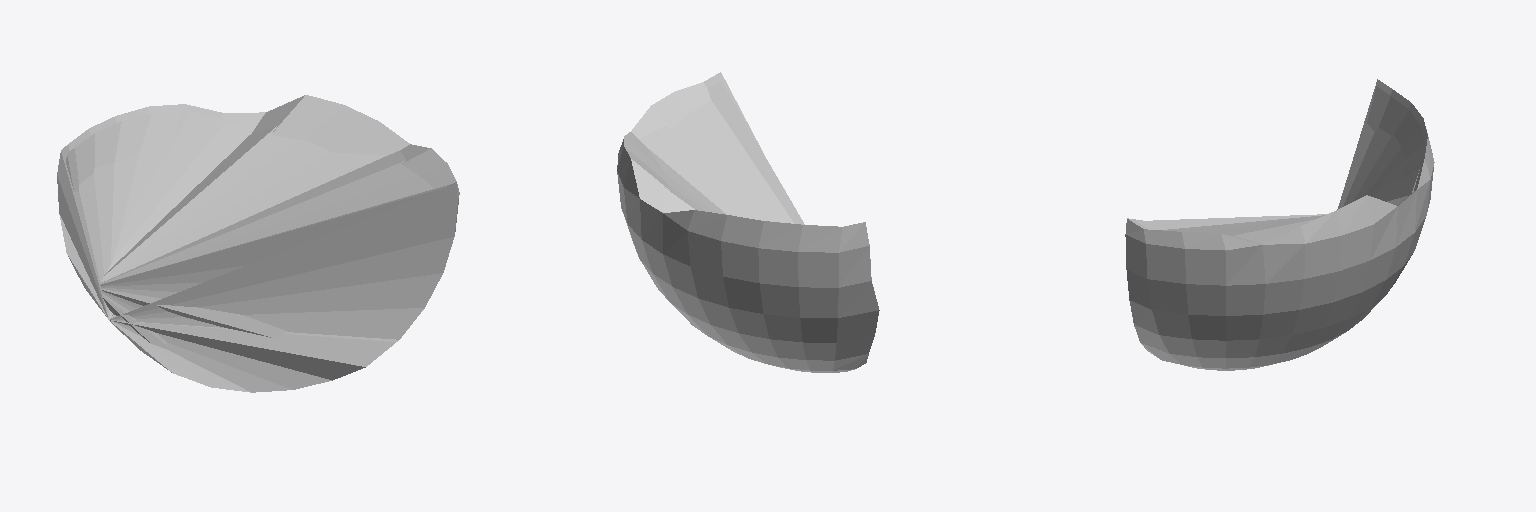
Rendered from ball_piece2.obj.
The picture shows the model from 3 angles: view 1: azimuth 30°, elevation 25°; view 2: azimuth 150°, elevation 25°; view 3: azimuth 270°, elevation 25°; orthographic projection.
Visible parts, largest first — view 1: piece_1_Sphere.003; view 2: piece_1_Sphere.003; view 3: piece_1_Sphere.003.
Boxes of the visible parts, x1=… form: piece_1_Sphere.003: x1=57, y1=95, x2=459, y2=392; piece_1_Sphere.003: x1=617, y1=72, x2=879, y2=372; piece_1_Sphere.003: x1=1125, y1=79, x2=1434, y2=370.
Bounding box in the file's own units: 0.433 × 0.2932 × 0.385.